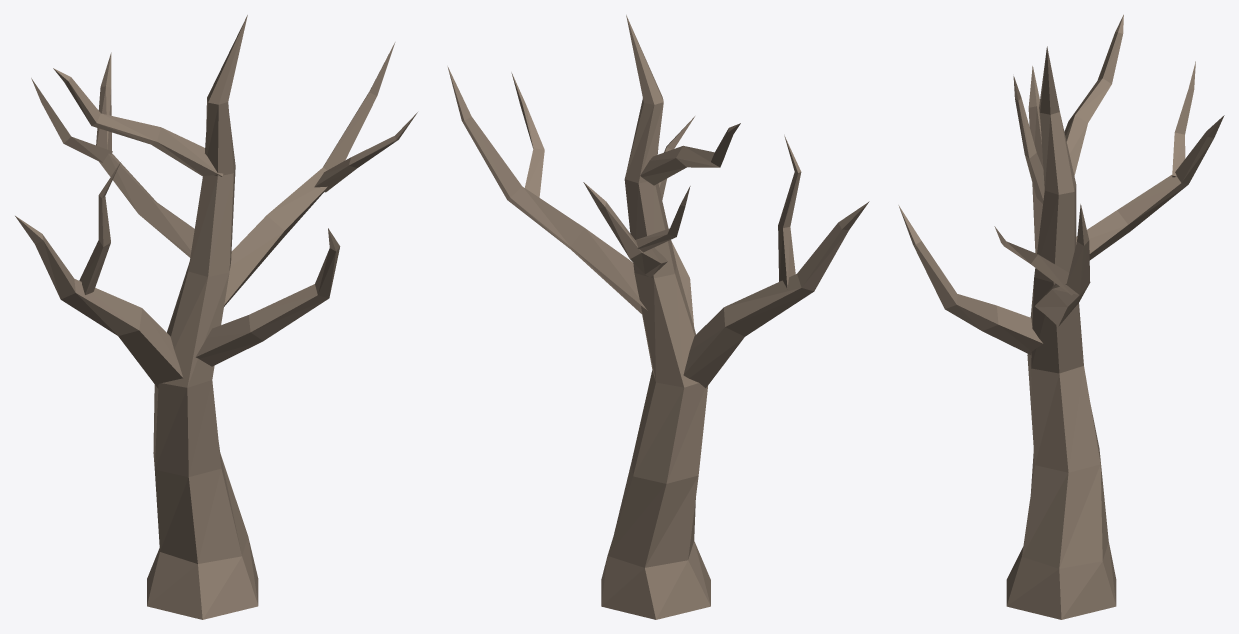
Rendered from tree_dead.glb.
3 views of the same model, side by side, from view 1: azimuth 30°, elevation 25°; view 2: azimuth 150°, elevation 25°; view 3: azimuth 270°, elevation 25° (orthographic).
Parts seen in each view (by area): view 1: tree_dead; view 2: tree_dead; view 3: tree_dead.
Part boxes in pixels (bbox=[...]): tree_dead: bbox=[15, 15, 417, 619]; tree_dead: bbox=[447, 15, 869, 619]; tree_dead: bbox=[898, 14, 1224, 619].
Size of the model in its own units: 0.96 by 1.3 by 0.68.
